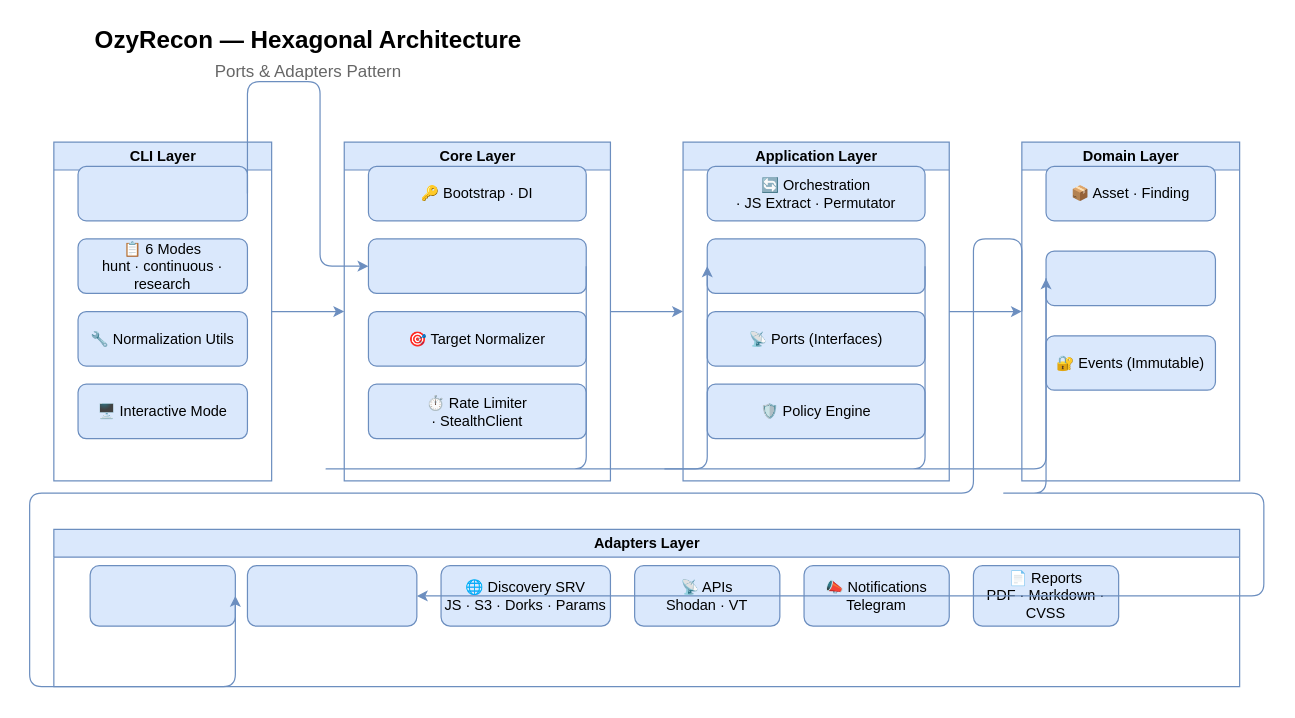
This 1295x718 diagram has some shape labels left out. Each missing label, with the centre of its shape:
⚙️ ozy.py Click CLI Entry: the point at 162,193
📄 Evidence · Scan: the point at 1130,278
📐 Config · YAML + Env: the point at 476,265
🔍 Go Tools subfinder · httpx · nuclei: the point at 331,595
🔍 Use Cases · hunt · param discovery: the point at 815,265
🗄️ SQLite SQLAlchemy: the point at 162,595
